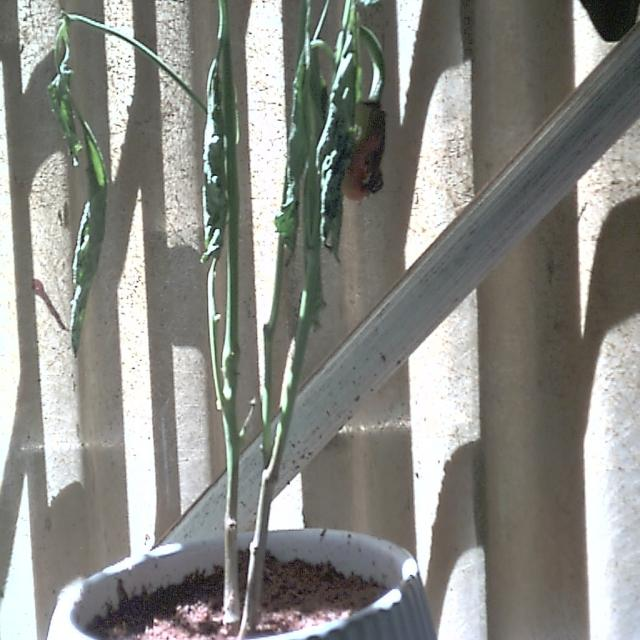Leaf: (58, 114, 110, 357), (312, 36, 362, 259), (190, 50, 231, 266)
